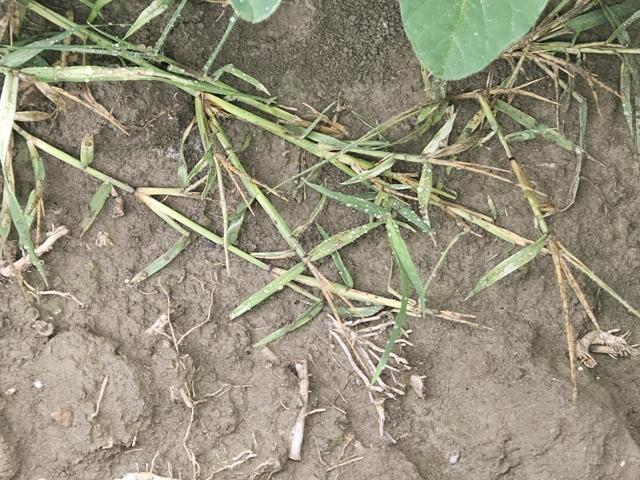bad weed: (20, 12, 529, 380)
